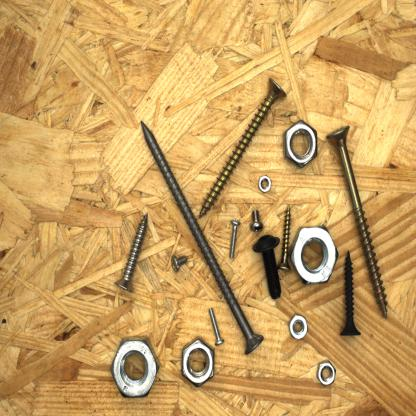screw: (135, 114, 267, 359), (322, 115, 396, 321), (191, 66, 289, 214), (110, 209, 154, 297), (333, 246, 366, 342), (250, 232, 287, 300), (275, 204, 297, 272), (205, 301, 228, 350), (223, 216, 245, 266), (168, 245, 192, 276), (248, 206, 266, 235)
